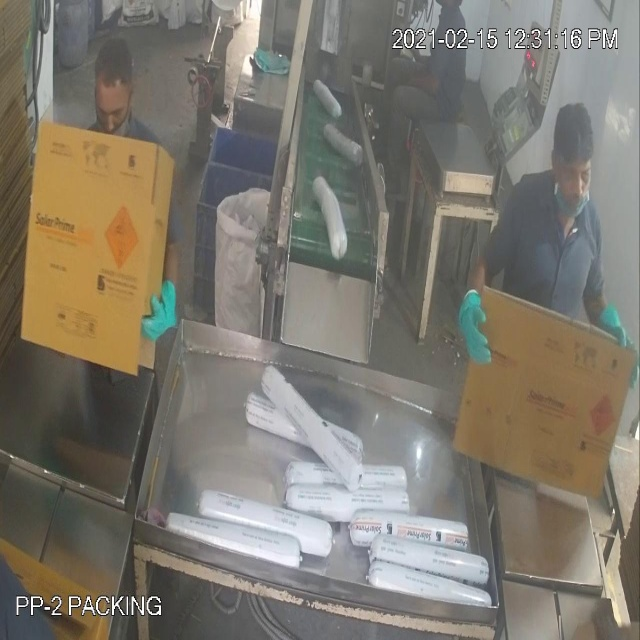Guantes: (446, 269, 499, 387), (135, 265, 189, 346), (598, 298, 640, 388)
Sin_guantes: (375, 58, 451, 102)
